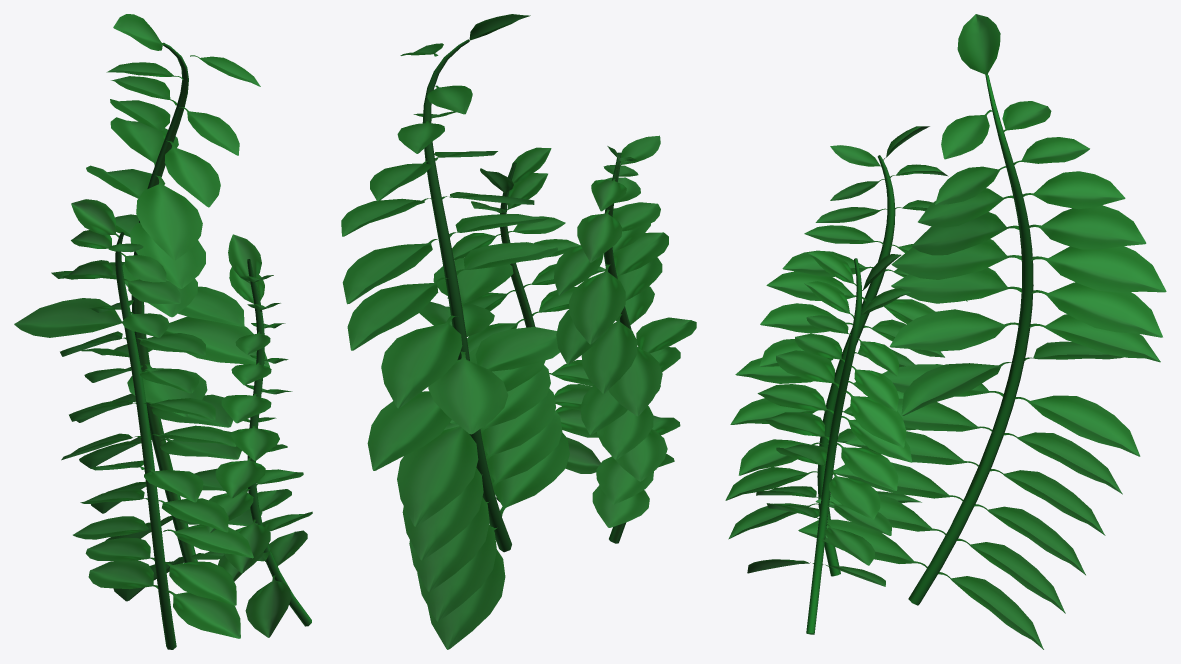
Rendered from Plants_8.fbx.
3 renders of one model, left to right at view 1: azimuth 30°, elevation 25°; view 2: azimuth 150°, elevation 25°; view 3: azimuth 270°, elevation 25°, orthographic.
Visible parts, largest first — view 1: Plane; view 2: Plane; view 3: Plane.
Part boxes in pixels (<box>): Plane: <box>14,14,312,649</box>; Plane: <box>341,14,696,649</box>; Plane: <box>725,14,1166,649</box>.
Size of the model in its own units: 2.52 by 6.54 by 4.25.
1 material, 1 textured.
